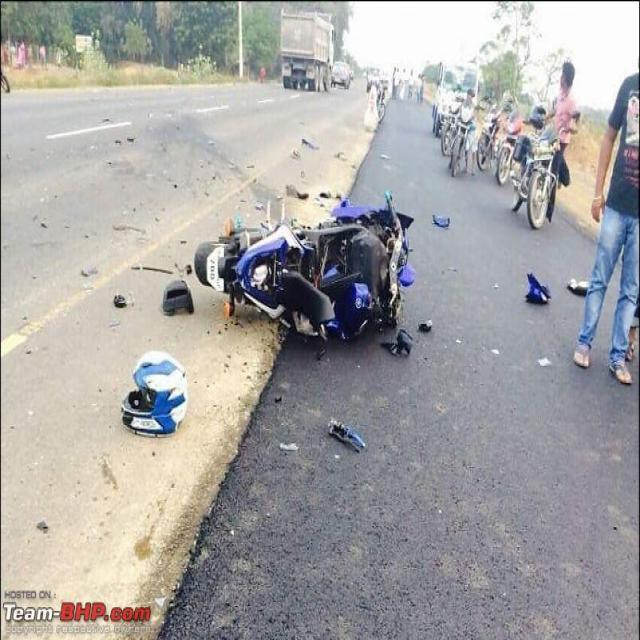accident: (194, 191, 414, 340)
motorcycle: (512, 62, 580, 228)
